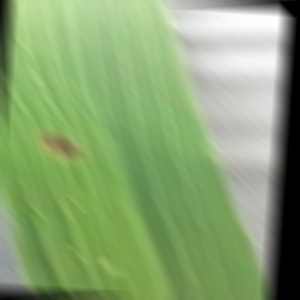Bacterial_Leaf_Blight: (35, 128, 87, 163)
